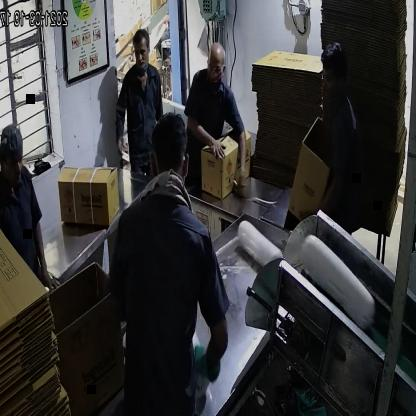no_glove: (30, 210, 73, 288), (175, 119, 234, 162), (229, 128, 258, 206), (110, 88, 135, 166)
